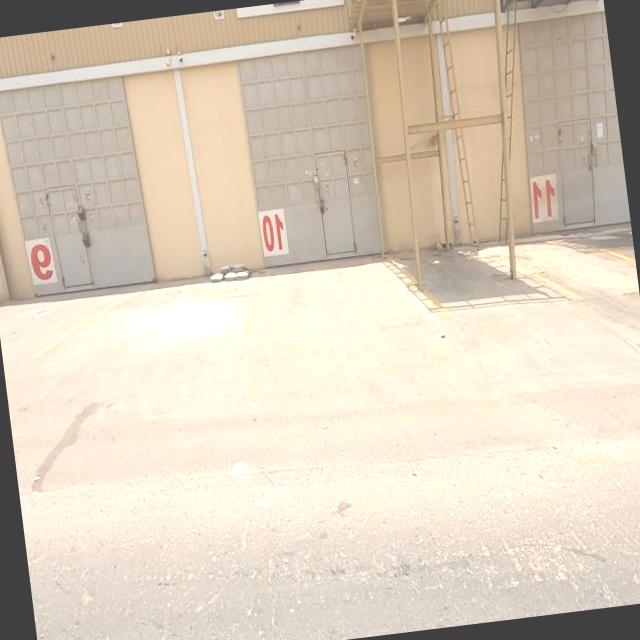debris: (190, 226, 276, 308), (418, 301, 463, 368)
